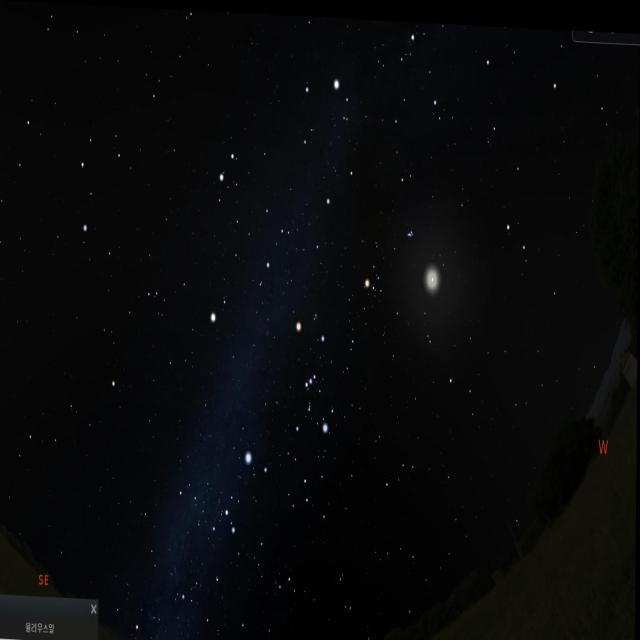canis_major: (224, 446, 272, 548)
canis_minor: (201, 288, 233, 325)
gemini: (218, 144, 290, 271)
moon: (422, 259, 444, 298)
orion: (291, 310, 334, 434)
pleiades: (404, 220, 415, 242)
taurus: (360, 200, 418, 312)
